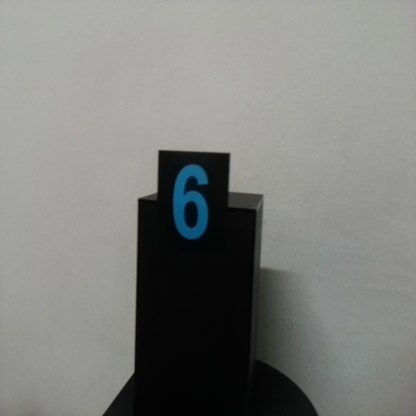id_6: (159, 151, 229, 263)
